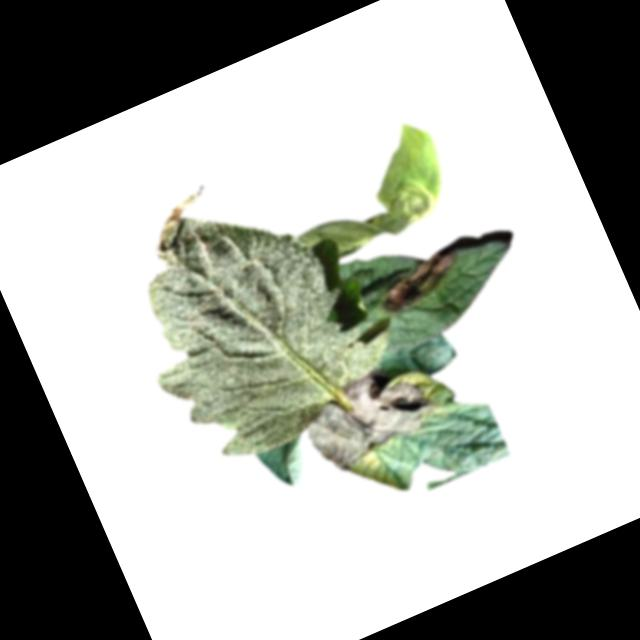Late_blight: (273, 112, 464, 271), (293, 354, 445, 481), (370, 244, 467, 318)
healthy: (94, 141, 409, 478)
